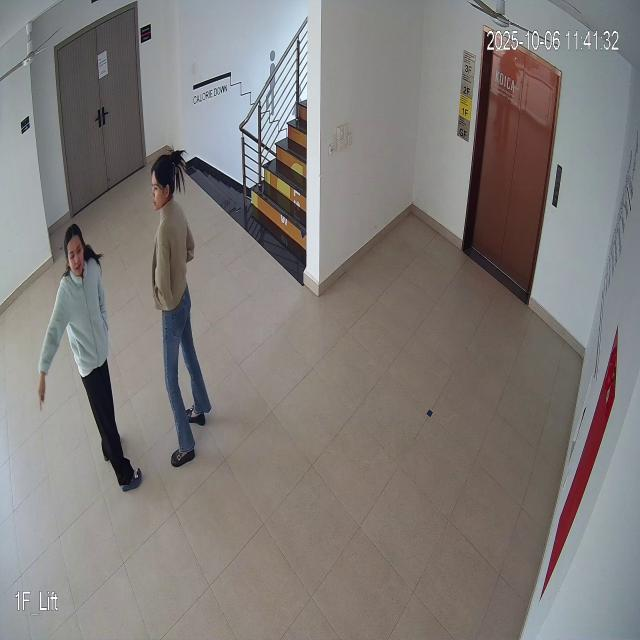face: (145, 138, 186, 212), (64, 225, 92, 289)
